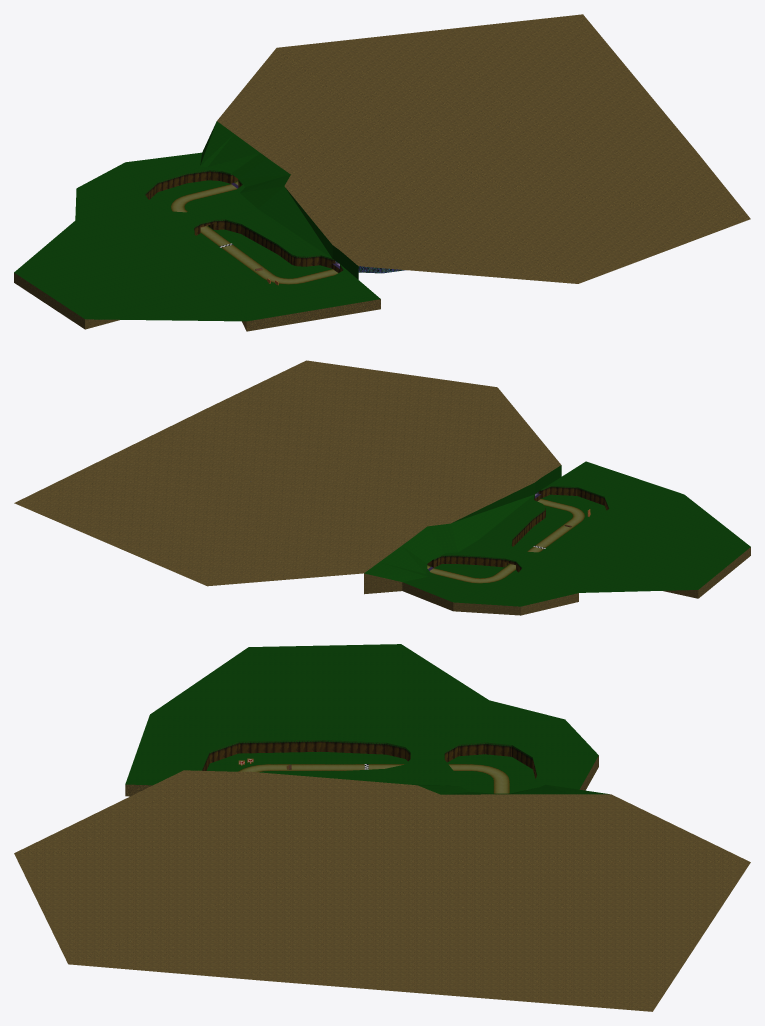
3 renders of one model, top to bottom at view 1: azimuth 30°, elevation 25°; view 2: azimuth 150°, elevation 25°; view 3: azimuth 270°, elevation 25°, orthographic. The views are drawn at different scales.
Parts seen in each view (by area): view 1: Goomba_Cave_V2_Main-Brick_Rough_Dark, Goomba_Cave_V2_Main-Vegetation_Grass_Artificial, Goomba_Cave_V2_Main-brick, Goomba_Cave_V2_Main-road; view 2: Goomba_Cave_V2_Main-Brick_Rough_Dark, Goomba_Cave_V2_Main-Vegetation_Grass_Artificial, Goomba_Cave_V2_Main-brick, Goomba_Cave_V2_Main-road; view 3: Goomba_Cave_V2_Main-Brick_Rough_Dark, Goomba_Cave_V2_Main-Vegetation_Grass_Artificial, Goomba_Cave_V2_Main-brick, Goomba_Cave_V2_Main-road.
Boxes of the visible parts, left/top/right/bottom form: Goomba_Cave_V2_Main-Brick_Rough_Dark: left=14, top=14, right=750, bottom=331; Goomba_Cave_V2_Main-Vegetation_Grass_Artificial: left=14, top=121, right=380, bottom=321; Goomba_Cave_V2_Main-brick: left=145, top=170, right=343, bottom=272; Goomba_Cave_V2_Main-road: left=170, top=181, right=337, bottom=284; Goomba_Cave_V2_Main-Brick_Rough_Dark: left=14, top=360, right=750, bottom=615; Goomba_Cave_V2_Main-Vegetation_Grass_Artificial: left=364, top=461, right=750, bottom=606; Goomba_Cave_V2_Main-brick: left=427, top=486, right=609, bottom=572; Goomba_Cave_V2_Main-road: left=427, top=498, right=585, bottom=583; Goomba_Cave_V2_Main-Brick_Rough_Dark: left=14, top=755, right=750, bottom=1011; Goomba_Cave_V2_Main-Vegetation_Grass_Artificial: left=125, top=644, right=609, bottom=794; Goomba_Cave_V2_Main-brick: left=201, top=740, right=536, bottom=778; Goomba_Cave_V2_Main-road: left=237, top=764, right=510, bottom=793.
Bounding box in the file's own units: 176839 × 8697 × 143567.
25 materials, 25 textured.
